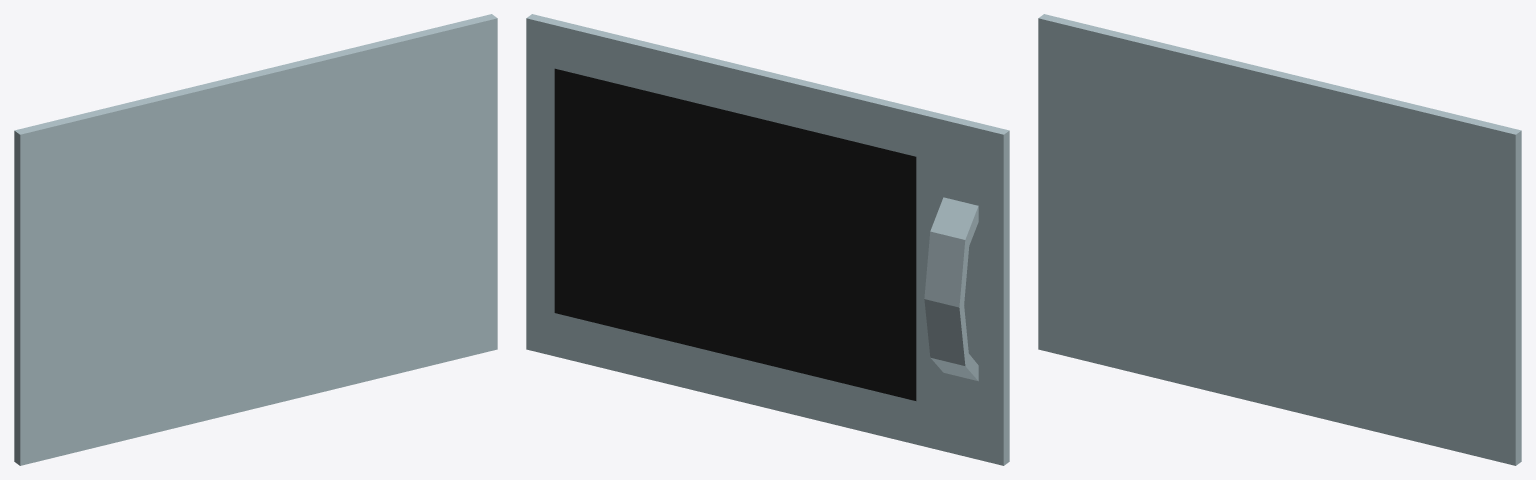
Rendered from micro_door.fbx.
3 renders of one model, left to right at view 1: azimuth 30°, elevation 25°; view 2: azimuth 150°, elevation 25°; view 3: azimuth 330°, elevation 25°, orthographic.
Visible parts, largest first — view 1: door; view 2: door; view 3: door.
Part boxes in pixels (<box>): door: <box>14,14,497,465</box>; door: <box>526,14,1009,465</box>; door: <box>1038,14,1521,465</box>.
Size of the model in its own units: 0.4741 by 0.3142 by 0.0429.
